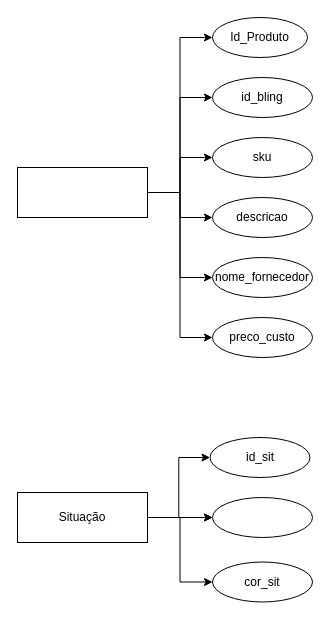
Image size: 330x620. Some labels were removed from this diagram. The box of each missing label's shape, as (x1, y1, x2, y2) in pixels:
nome: (212, 496, 312, 538)
Produto: (16, 166, 148, 218)
